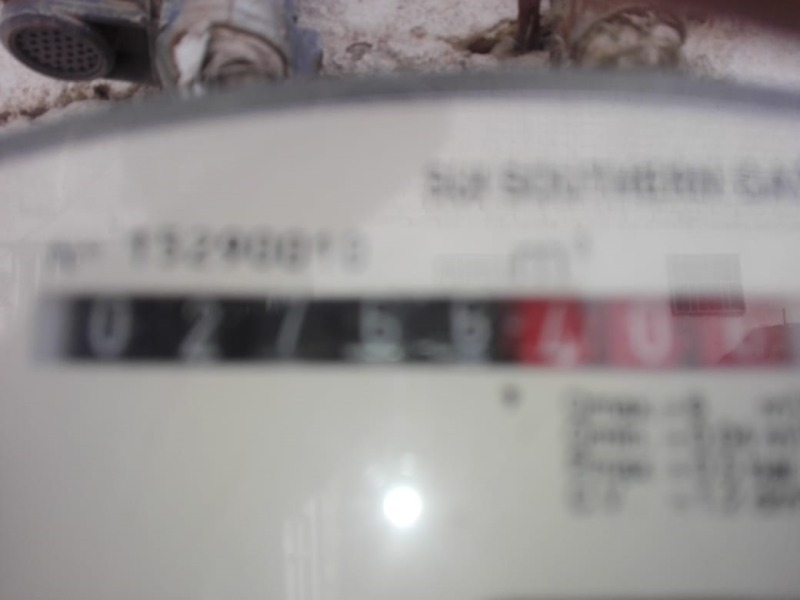ssgc: (44, 289, 792, 369)
